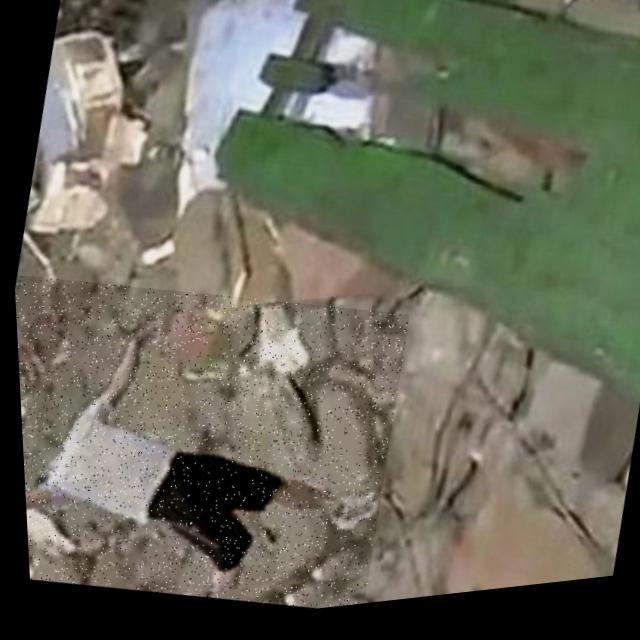Person in Rubble: (11, 240, 416, 640)
